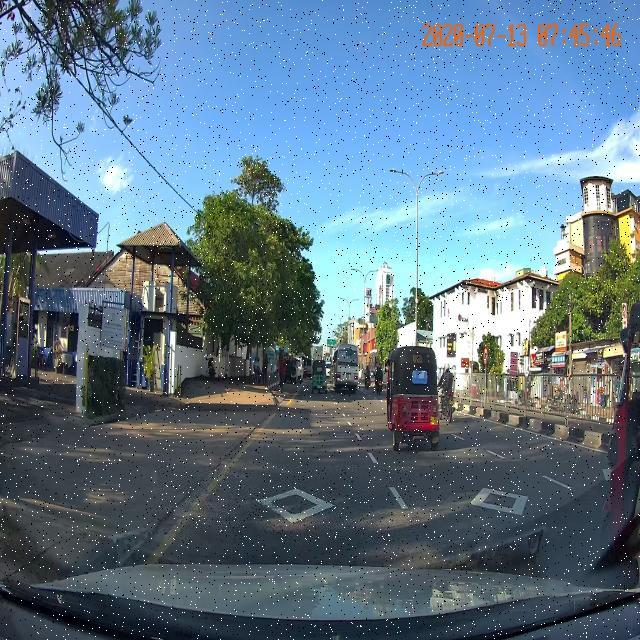diamond: (158, 468, 421, 539)
